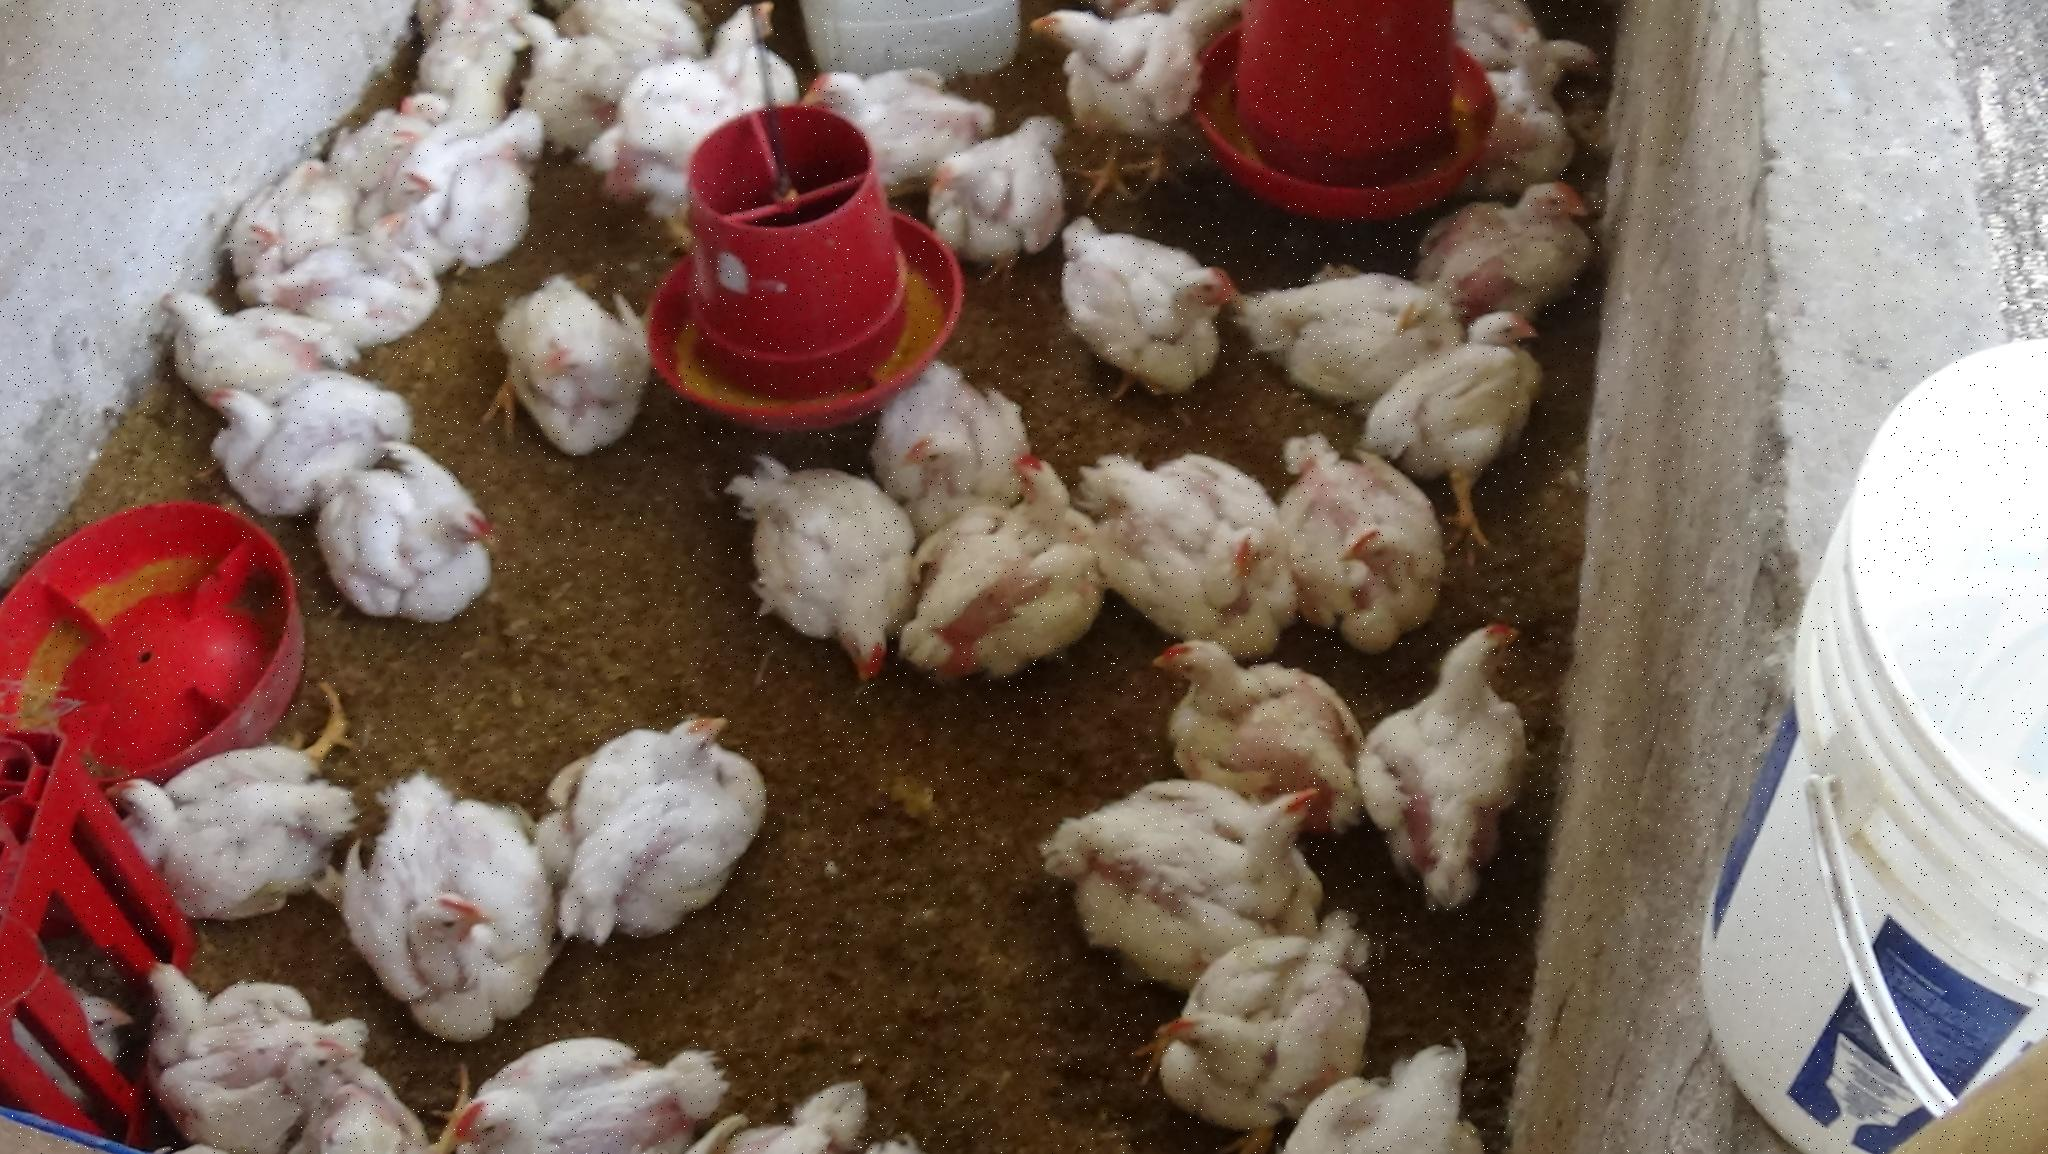Pollos: (336, 787, 558, 1040), (530, 729, 786, 944), (1004, 782, 1315, 940), (1371, 621, 1568, 868), (1369, 303, 1566, 529), (1149, 923, 1395, 1103), (731, 450, 919, 683), (1149, 642, 1378, 823), (1080, 448, 1297, 632), (97, 761, 347, 912), (447, 1032, 753, 1154), (1025, 224, 1234, 402), (143, 967, 360, 1139), (188, 367, 421, 514), (1030, 3, 1205, 194), (636, 6, 798, 208), (307, 463, 502, 626), (467, 288, 655, 455), (928, 450, 1076, 659), (155, 279, 354, 418), (1415, 182, 1608, 321), (1260, 267, 1450, 405), (1290, 457, 1432, 640), (868, 379, 1047, 524), (1287, 1026, 1483, 1154), (411, 108, 547, 290), (308, 173, 447, 343), (934, 118, 1070, 265), (219, 146, 335, 305), (812, 65, 999, 158), (497, 11, 636, 134), (277, 1041, 423, 1154), (1492, 20, 1580, 186), (745, 1063, 876, 1154), (1454, 1, 1598, 73), (421, 6, 518, 106), (329, 104, 423, 175), (44, 992, 143, 1058)
